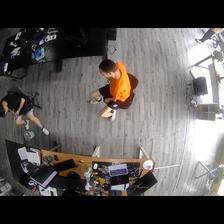normal: (1, 85, 56, 143), (87, 58, 135, 122)
